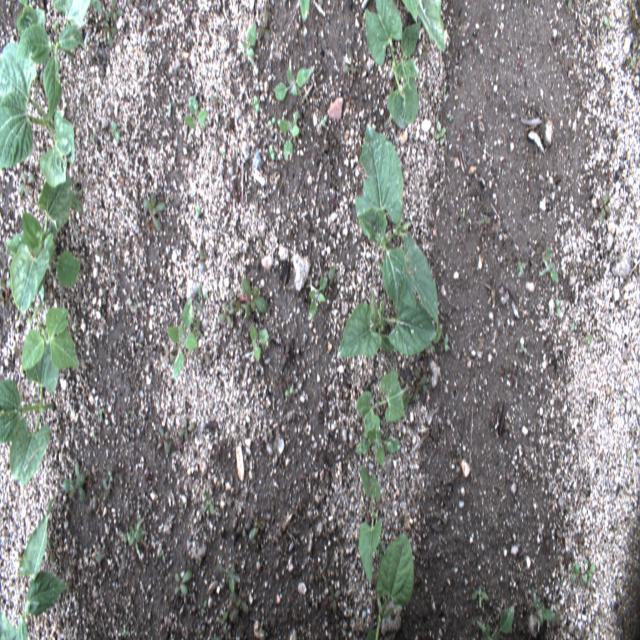crop: (354, 125, 438, 337), (0, 41, 74, 187), (14, 0, 90, 121), (10, 165, 72, 313), (0, 338, 59, 487), (364, 0, 421, 129), (338, 288, 436, 358), (366, 532, 414, 640), (22, 300, 80, 372), (355, 370, 409, 437), (359, 465, 381, 584), (401, 0, 445, 52)
weed: (0, 494, 69, 638), (6, 210, 81, 286), (166, 294, 198, 378), (355, 423, 401, 465), (272, 67, 312, 101), (476, 605, 514, 639), (276, 110, 300, 161), (238, 277, 267, 319), (531, 586, 555, 632), (142, 192, 166, 231), (308, 275, 327, 323), (184, 95, 209, 128), (538, 246, 559, 284), (218, 562, 242, 594), (250, 323, 268, 363), (62, 472, 86, 500), (257, 9, 272, 44), (174, 570, 194, 596), (74, 461, 86, 504), (426, 322, 443, 352), (242, 23, 257, 56), (102, 20, 119, 49), (413, 367, 428, 399), (0, 273, 14, 307), (217, 301, 236, 325), (18, 171, 36, 196), (178, 417, 196, 442), (135, 516, 145, 559), (230, 288, 248, 311), (343, 49, 360, 73), (472, 584, 489, 608), (16, 0, 27, 37), (105, 0, 124, 21), (598, 191, 610, 224), (157, 425, 170, 454), (231, 593, 249, 613), (582, 557, 594, 587), (127, 524, 143, 546), (162, 344, 179, 364), (249, 521, 266, 541), (328, 584, 340, 612), (202, 489, 214, 515), (70, 193, 84, 213), (217, 611, 228, 636), (374, 535, 385, 560), (236, 522, 252, 539), (190, 316, 202, 338), (36, 270, 44, 302), (101, 476, 112, 498), (196, 285, 208, 305), (434, 509, 448, 526), (210, 91, 224, 107), (88, 0, 102, 15), (229, 602, 239, 623), (299, 0, 309, 21), (46, 535, 53, 564), (111, 120, 121, 140), (118, 527, 130, 543), (200, 248, 208, 272), (571, 562, 580, 583), (484, 284, 496, 299), (435, 122, 446, 138), (400, 392, 410, 409), (268, 141, 276, 161), (258, 238, 266, 256), (252, 94, 260, 112), (518, 262, 528, 276), (328, 264, 336, 281), (586, 334, 594, 350), (283, 385, 294, 396), (267, 115, 276, 126), (201, 600, 208, 614), (321, 114, 328, 127), (73, 188, 83, 197), (444, 331, 448, 353), (195, 200, 200, 216), (605, 17, 613, 27), (556, 298, 560, 316), (520, 344, 528, 353), (629, 58, 636, 66), (567, 0, 571, 9)
